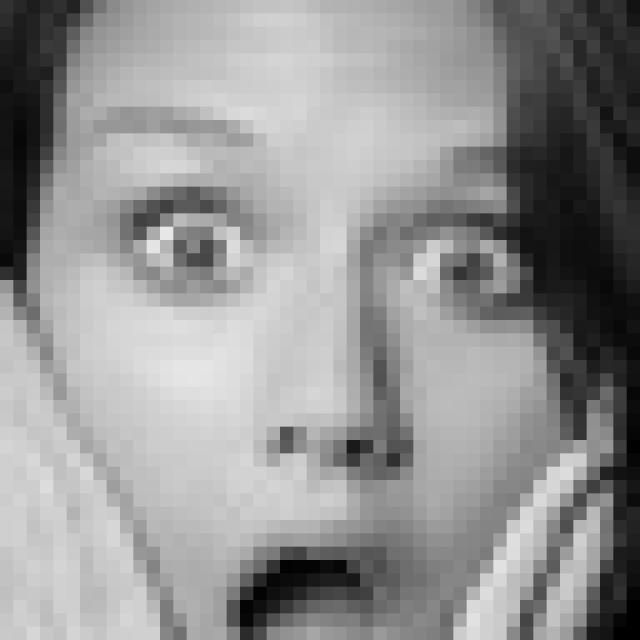surprise: (75, 105, 580, 640)
